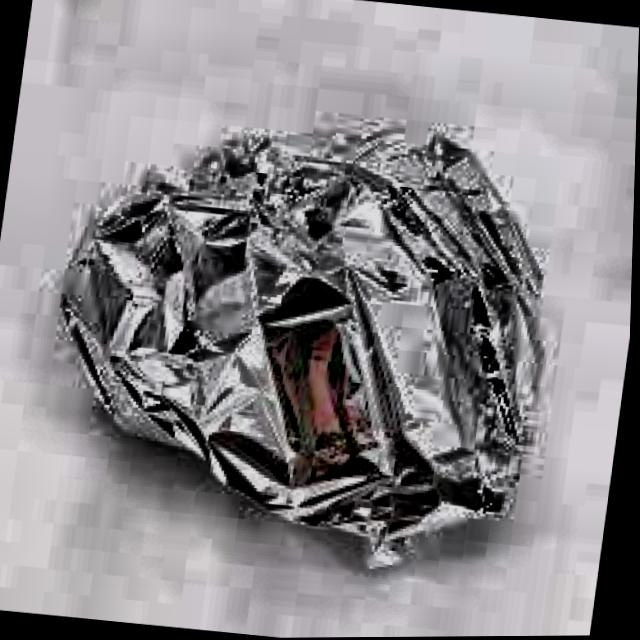Foil: (21, 86, 594, 582)
